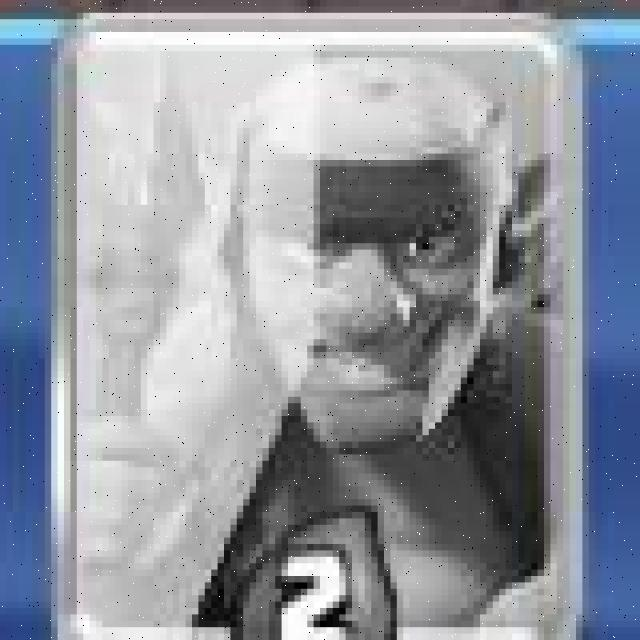Spear_Goblins: (64, 10, 573, 640)
